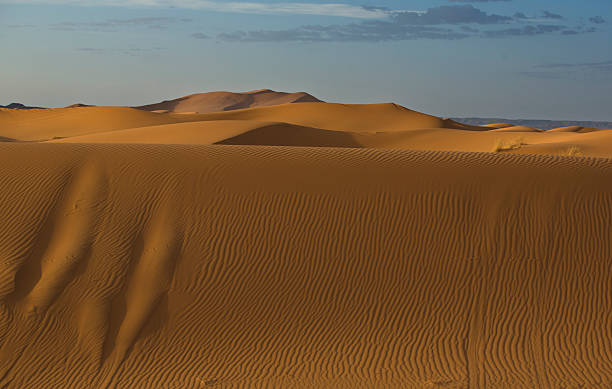vehicle_track: (94, 186, 180, 381), (18, 150, 107, 306), (462, 169, 509, 388), (532, 190, 564, 388)
